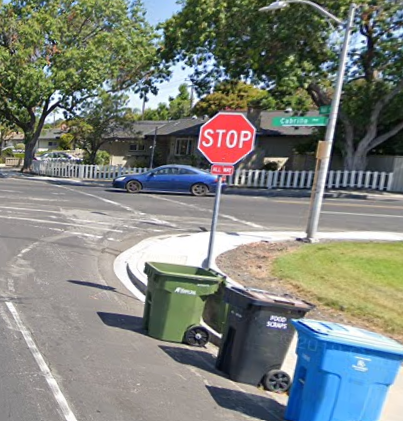stop_sign: (196, 113, 256, 163)
